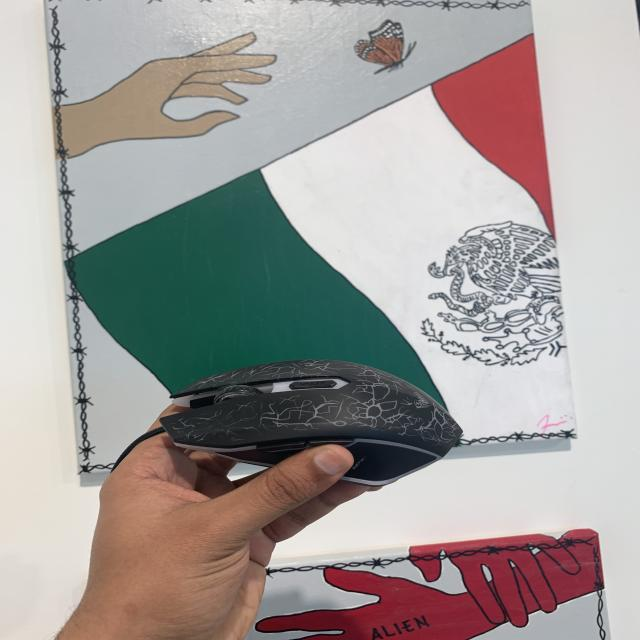Mouse: (126, 355, 477, 504)
